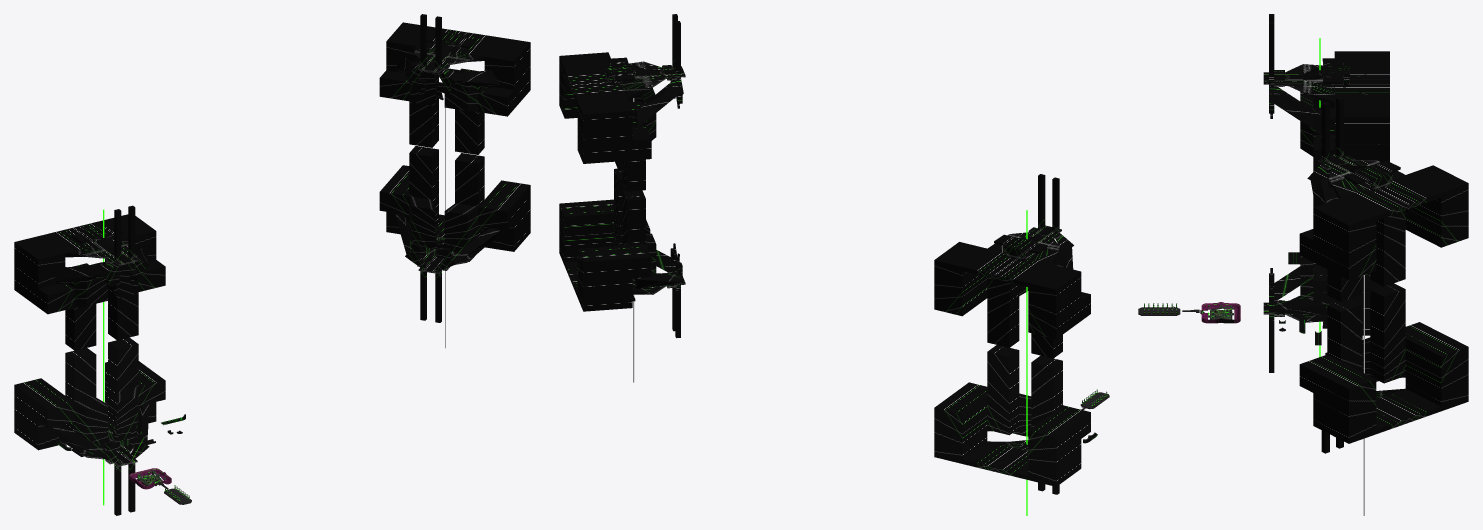
The model's file is Level1.glb.
The picture shows the model from 3 angles, left to right: view 1: azimuth 30°, elevation 25°; view 2: azimuth 150°, elevation 25°; view 3: azimuth 270°, elevation 25°; orthographic projection. The views are drawn at different scales.
Visible parts, largest first — view 1: Cube.030, Cube.001, Col_Cube_coll.019, Cube.002; view 2: Col_Cube_coll.019, Cube.030, Cube.001, Cube.002; view 3: Cube.002, Cube.001, Cube.030, Col_Cube_coll.019.
Part boxes in pixels (<box>): Cube.030: <box>14,205,165,350</box>; Cube.001: <box>379,14,530,154</box>; Col_Cube_coll.019: <box>14,337,165,515</box>; Cube.002: <box>379,146,530,322</box>; Col_Cube_coll.019: <box>934,345,1090,494</box>; Cube.030: <box>934,174,1090,358</box>; Cube.001: <box>559,14,685,191</box>; Cube.002: <box>559,168,685,338</box>; Cube.002: <box>1299,283,1468,453</box>; Cube.001: <box>1299,96,1468,301</box>; Cube.030: <box>1263,14,1389,206</box>; Col_Cube_coll.019: <box>1263,206,1381,372</box>.
Bounding box in the file's own units: 1525 × 1179 × 764.
Materials: 8 (4 with a texture image).
